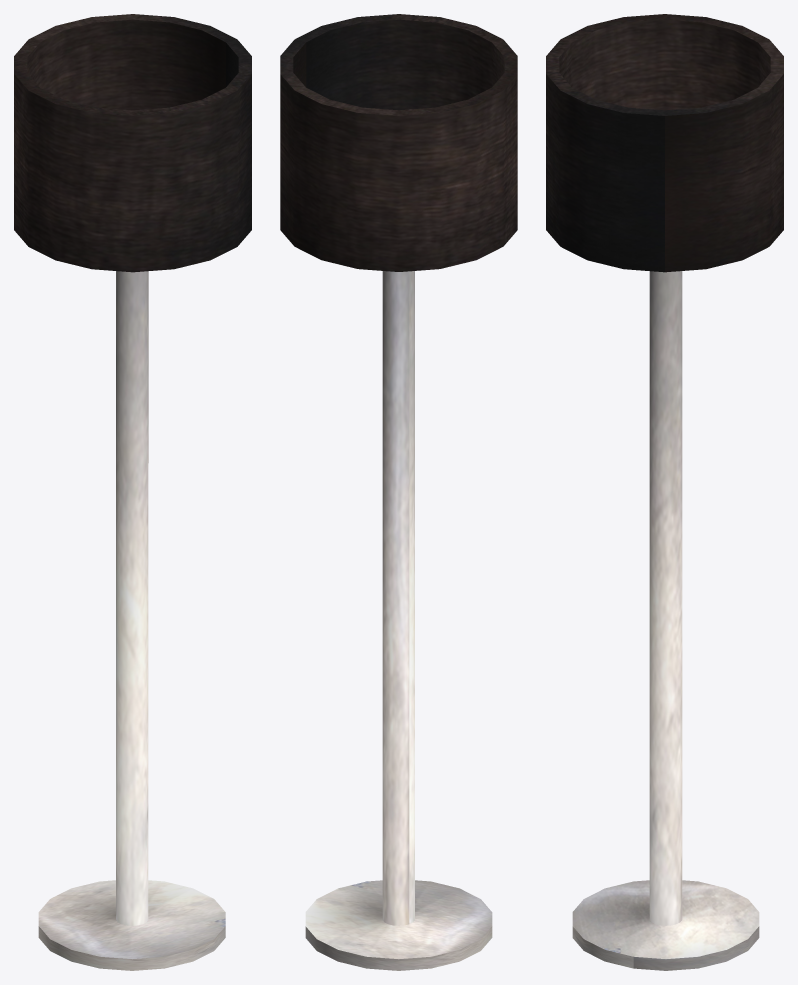
Rendered from Tall_Lamp.FBX.
3 views of the same model, side by side, from view 1: azimuth 30°, elevation 25°; view 2: azimuth 150°, elevation 25°; view 3: azimuth 270°, elevation 25° (orthographic).
Parts seen in each view (by area): view 1: TallLampStand001; view 2: TallLampStand001; view 3: TallLampStand001.
Part boxes in pixels (left/top/right/bottom): TallLampStand001: left=14, top=14, right=251, bottom=970; TallLampStand001: left=280, top=14, right=517, bottom=970; TallLampStand001: left=546, top=14, right=783, bottom=970.
Bounding box in the file's own units: 14 × 55.41 × 13.79.
1 material, 1 textured.
